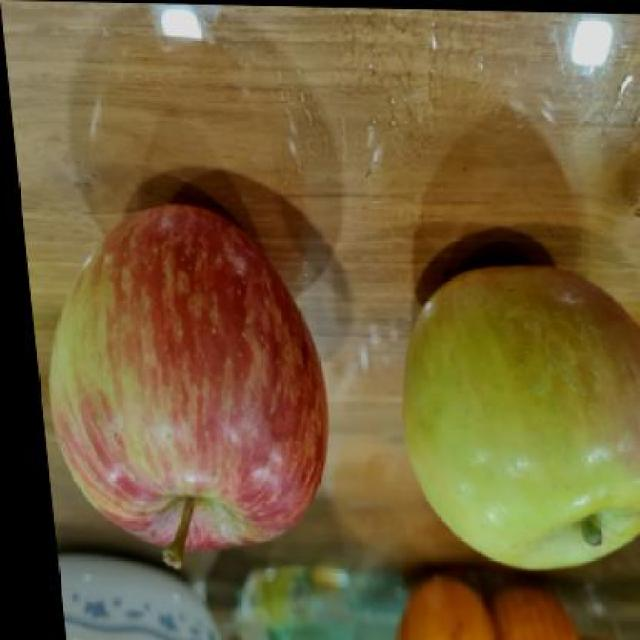Fresh Apple: (53, 212, 321, 578), (413, 271, 640, 550)
